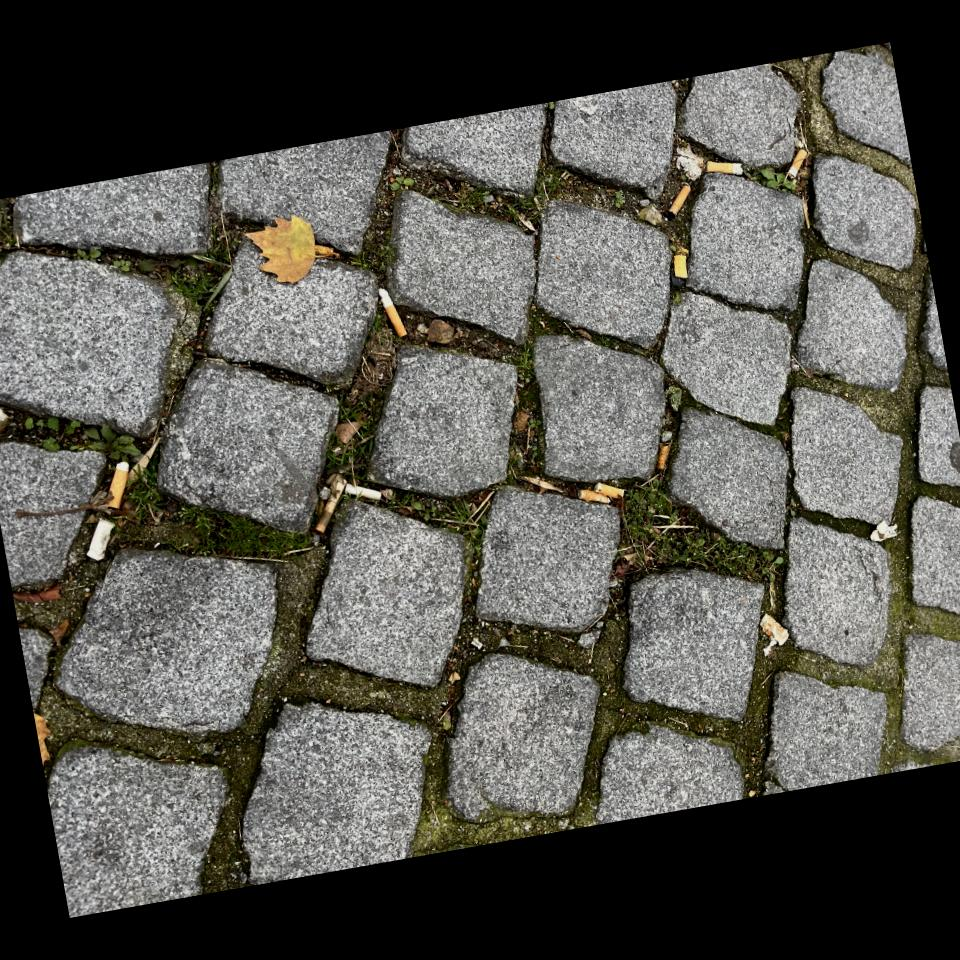weed: (298, 442, 373, 671), (619, 280, 721, 439), (629, 563, 688, 677), (656, 748, 697, 814), (377, 828, 439, 860), (307, 262, 330, 305)
